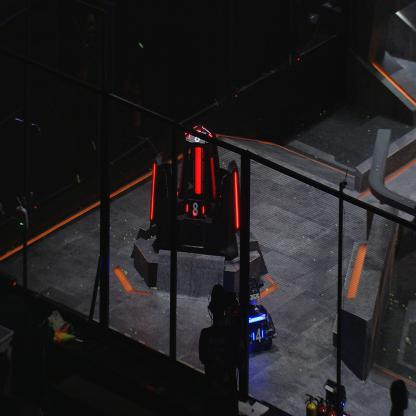car: (233, 276, 276, 352), (312, 378, 353, 415)
